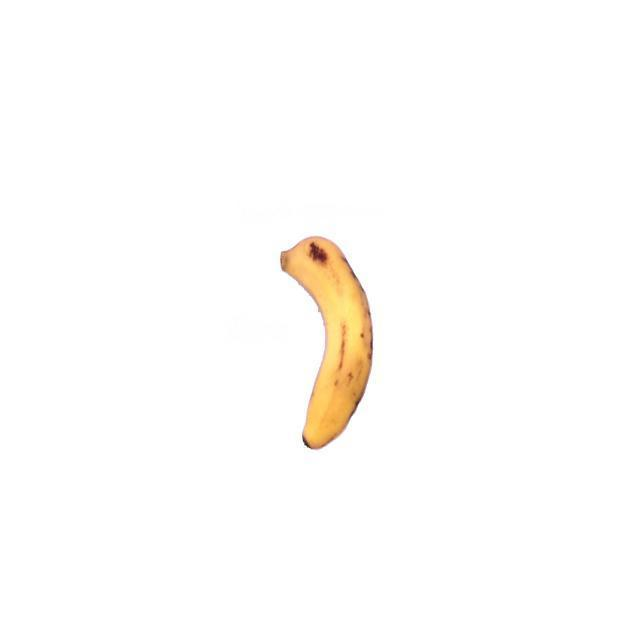Banana: (277, 233, 376, 455)
